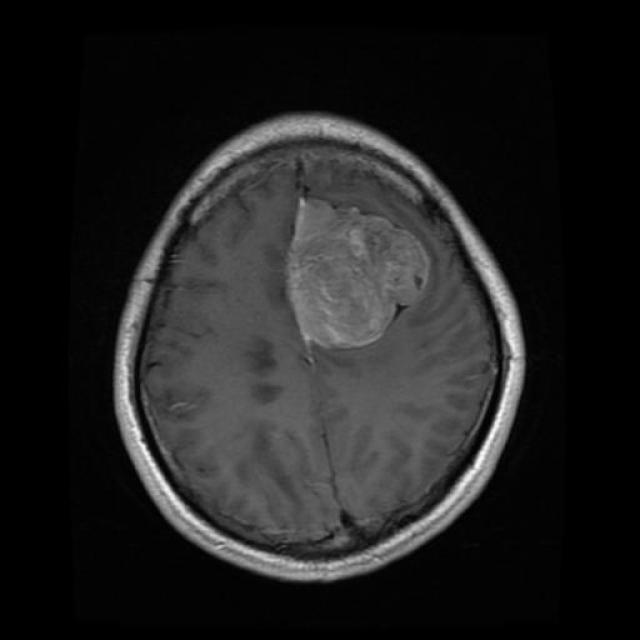meningioma: (286, 196, 430, 351)
